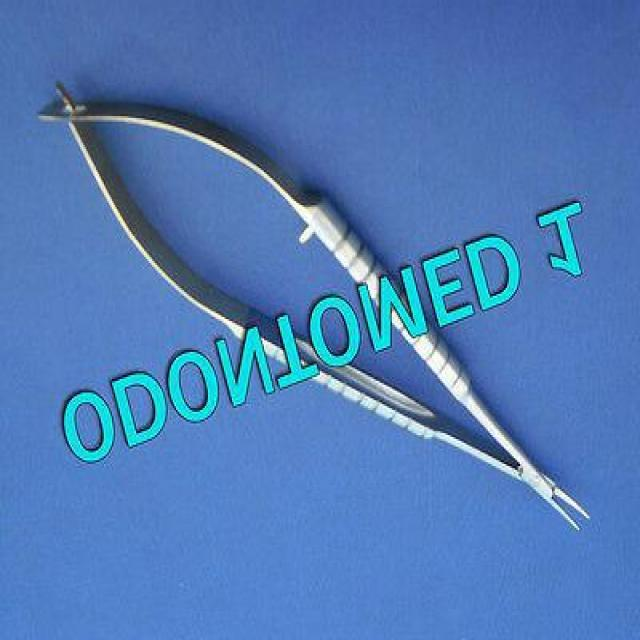Castroviejo: (35, 80, 595, 544)
